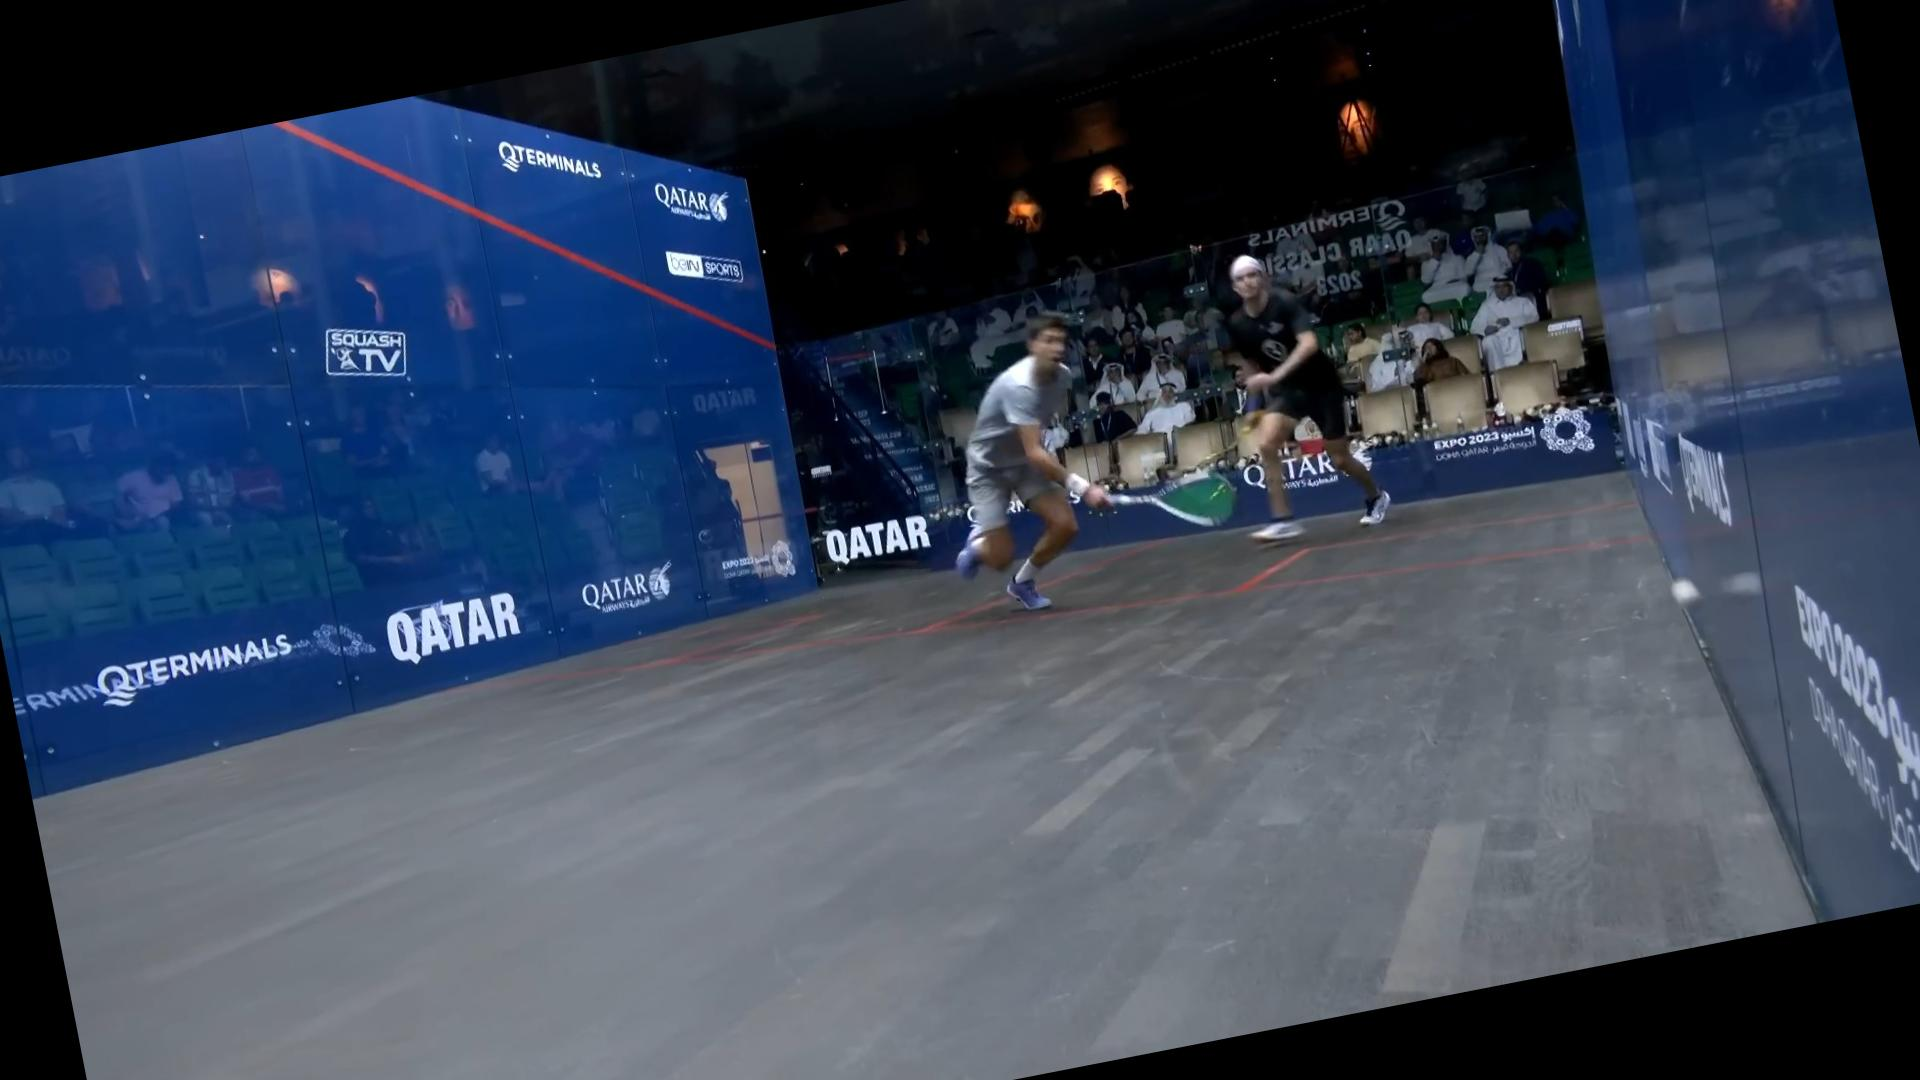Racket: (1098, 452, 1247, 551)
